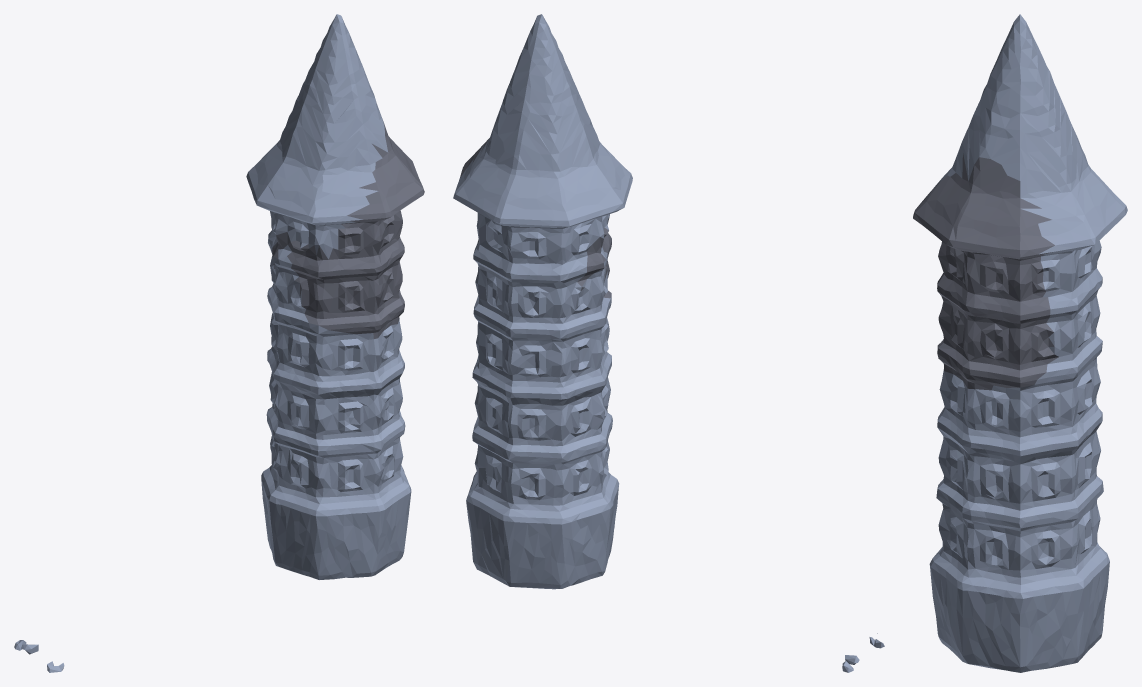
The model's file is tower.glb.
The picture shows the model from 3 angles, left to right: view 1: azimuth 30°, elevation 25°; view 2: azimuth 150°, elevation 25°; view 3: azimuth 270°, elevation 25°; orthographic projection. The views are drawn at different scales.
Parts seen in each view (by area): view 1: geometry_0; view 2: geometry_0; view 3: geometry_0.
Part boxes in pixels (box(x1,y1,x2,y2)): geometry_0: box(14, 14, 424, 672); geometry_0: box(453, 14, 884, 672); geometry_0: box(913, 14, 1127, 672).
Size of the model in its own units: 1.44 by 1.99 by 0.5869.
